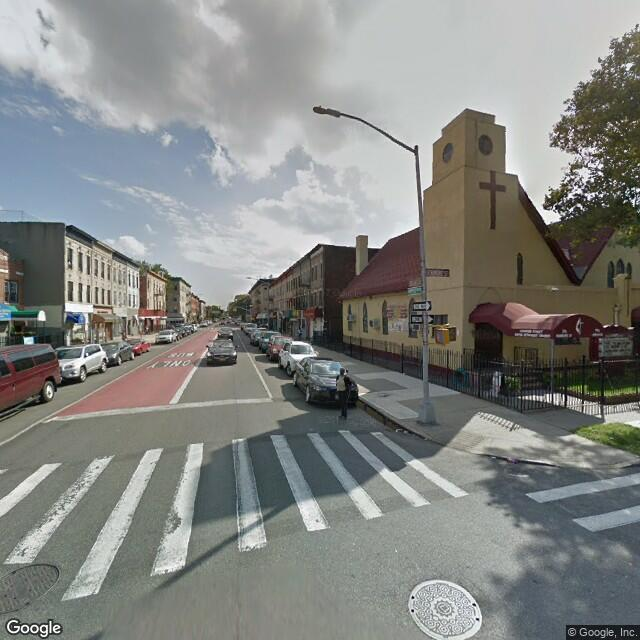litter: (397, 426, 407, 431), (508, 459, 517, 463)
